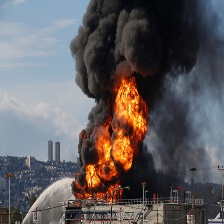fire: (86, 79, 150, 185)
smoke: (71, 1, 221, 190)
